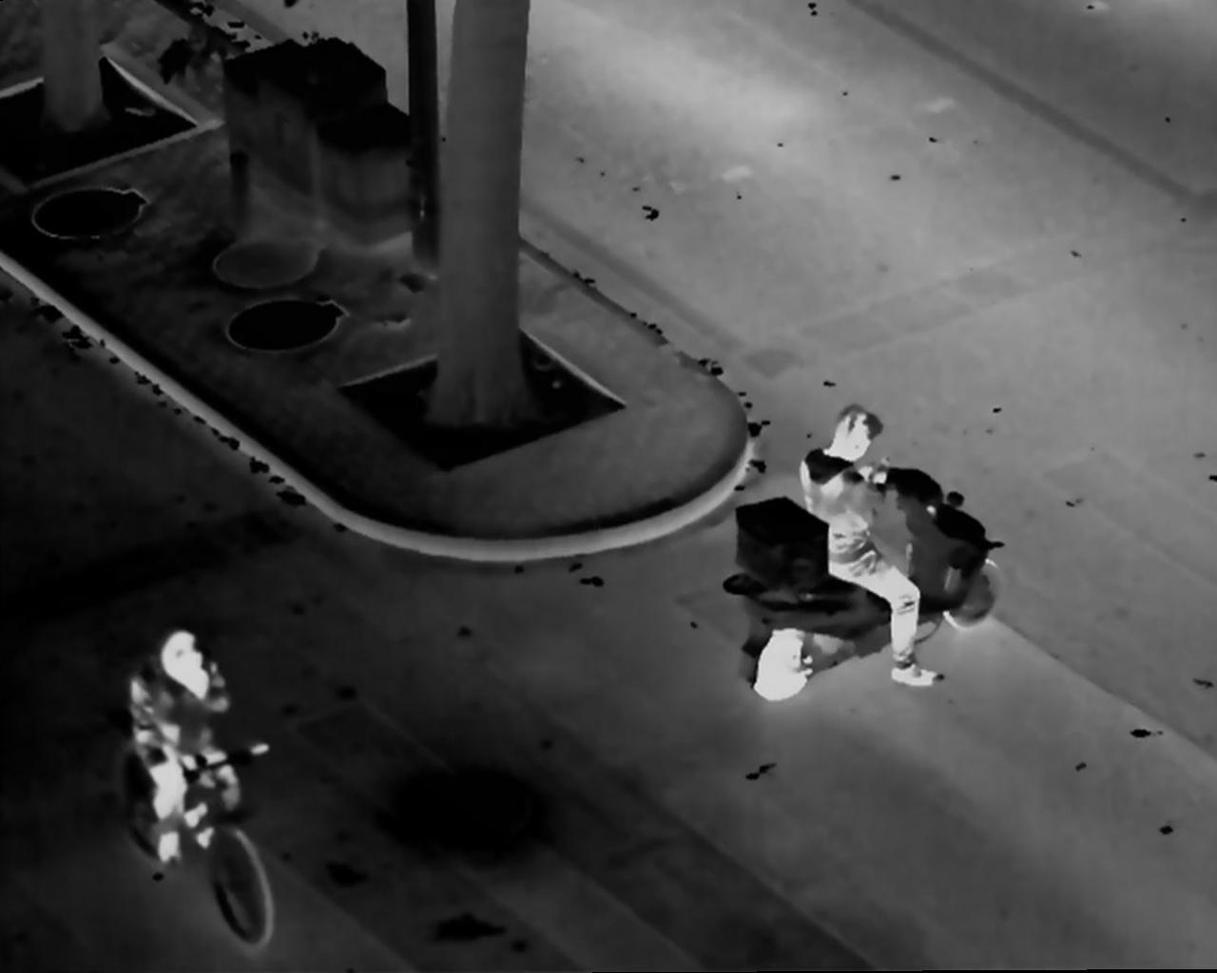person: (794, 399, 953, 693), (121, 628, 262, 877)
